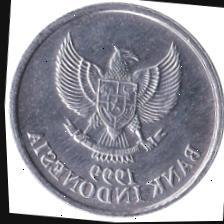coin_50_1999: (8, 0, 224, 218)
